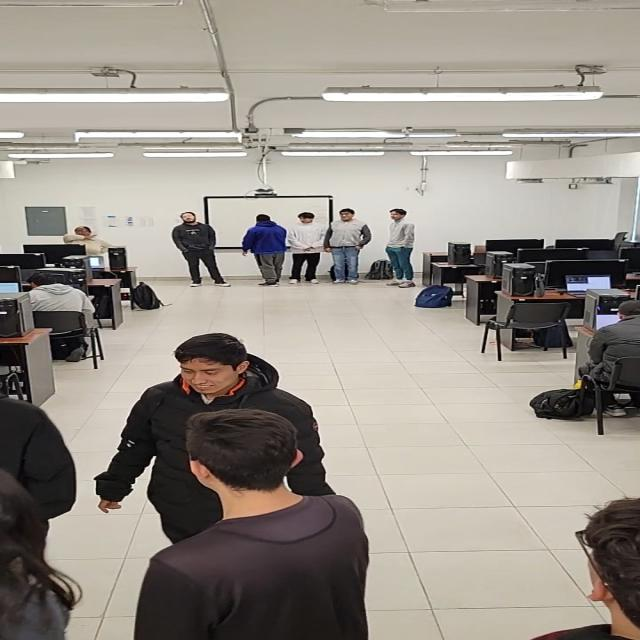Persona: (116, 410, 388, 640), (529, 494, 640, 640), (133, 332, 314, 409), (168, 206, 234, 292), (378, 206, 424, 292), (330, 205, 376, 288), (242, 210, 288, 288), (292, 209, 325, 286)
